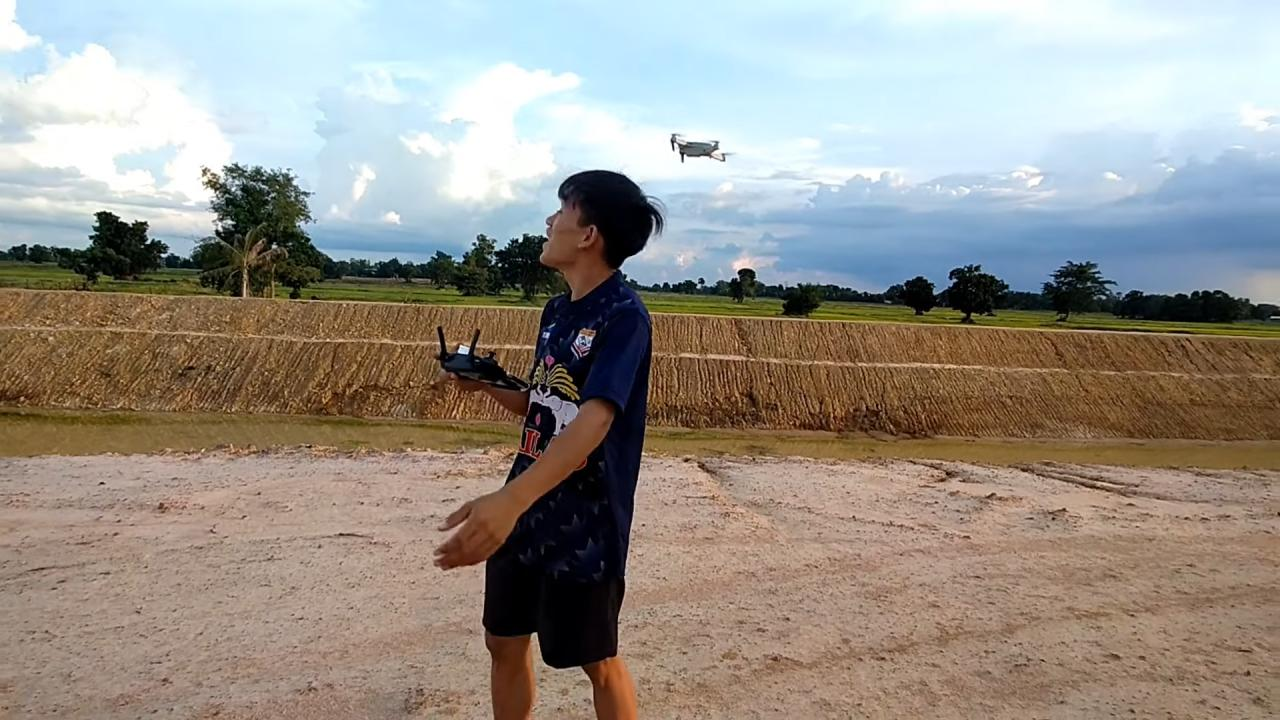Drone: (650, 121, 743, 178)
